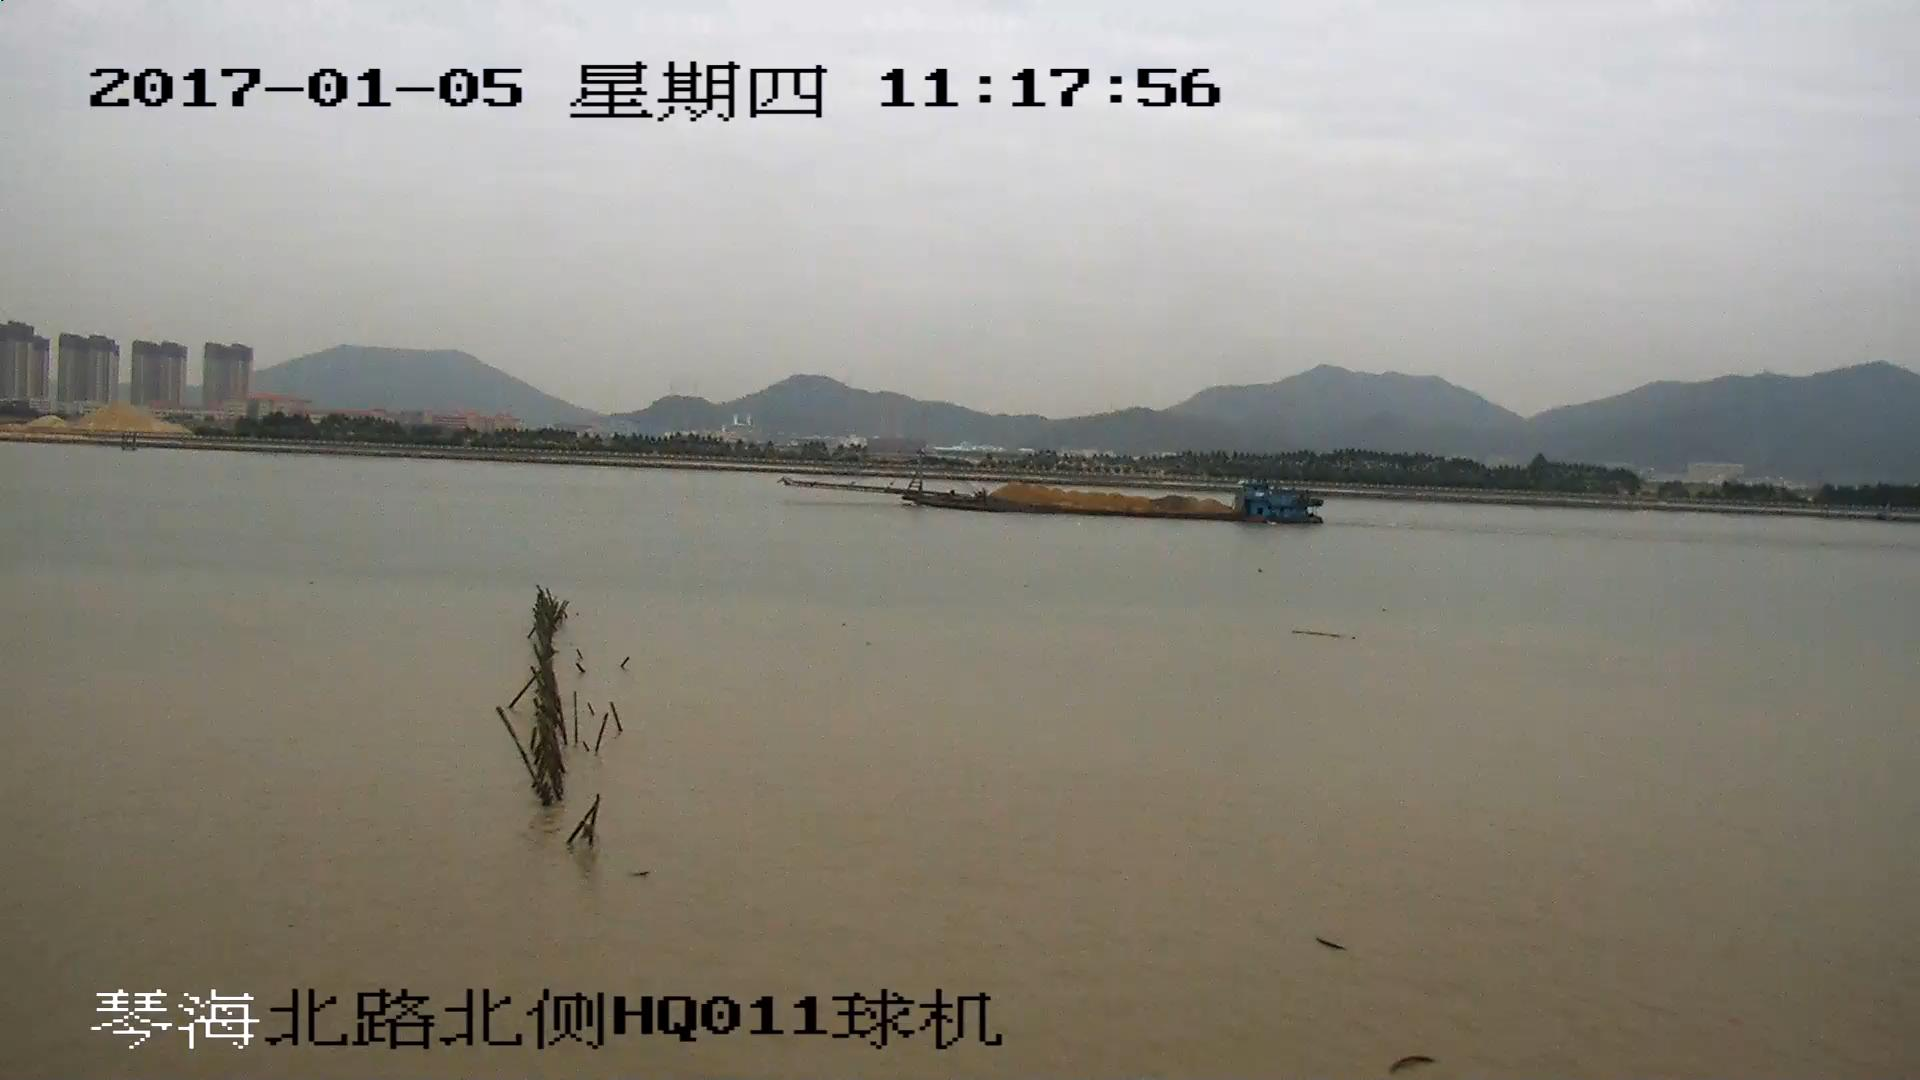ore carrier: (804, 458, 1318, 524)
